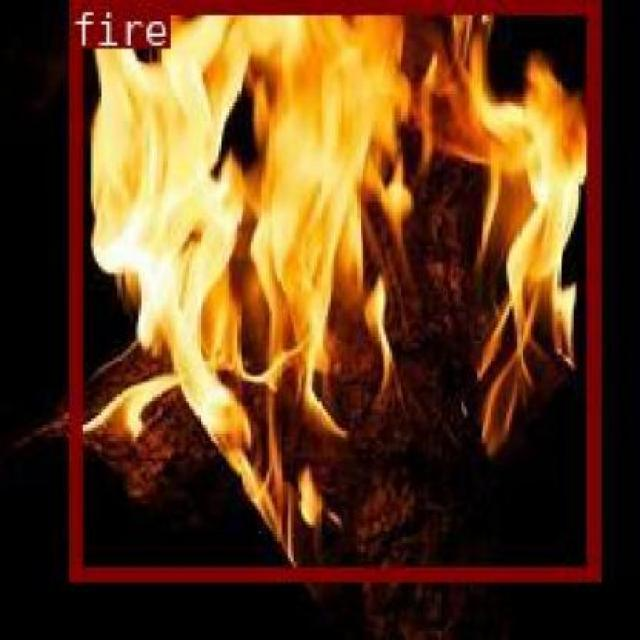Fire: (332, 288, 528, 577)
